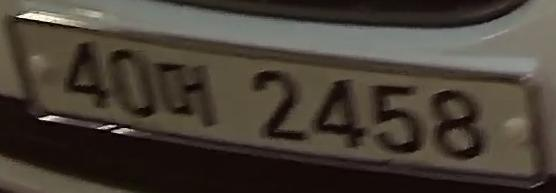0: (110, 42, 158, 117)
2: (245, 68, 313, 142)
4: (310, 79, 372, 152), (59, 38, 112, 112)
5: (370, 81, 430, 153)
8: (427, 89, 490, 162)
머: (156, 52, 223, 131)
